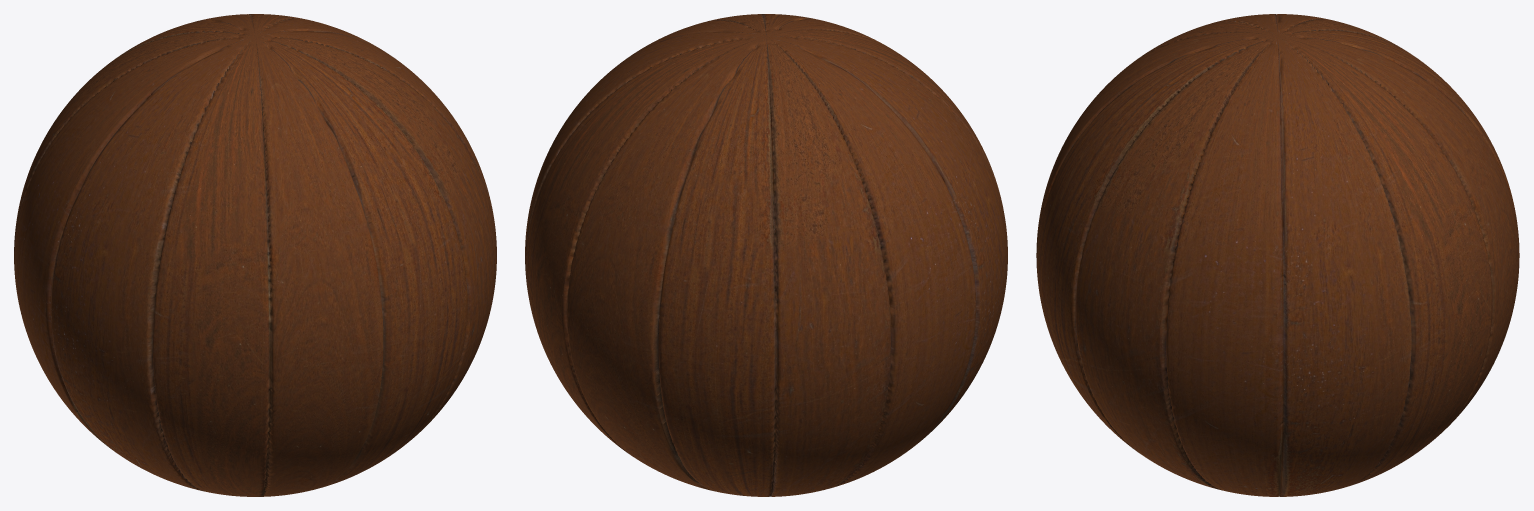
The model's file is stair_planks_1k.gltf.
3 renders of one model, left to right at view 1: azimuth 30°, elevation 25°; view 2: azimuth 150°, elevation 25°; view 3: azimuth 270°, elevation 25°, orthographic.
Parts seen in each view (by area): view 1: sphere_gltf; view 2: sphere_gltf; view 3: sphere_gltf.
Boxes of the visible parts, left/top/right/bottom form: sphere_gltf: left=14, top=14, right=496, bottom=496; sphere_gltf: left=525, top=14, right=1007, bottom=496; sphere_gltf: left=1036, top=14, right=1519, bottom=496.
Bounding box in the file's own units: 1.22 × 1.22 × 1.22.
1 material, 1 textured.
